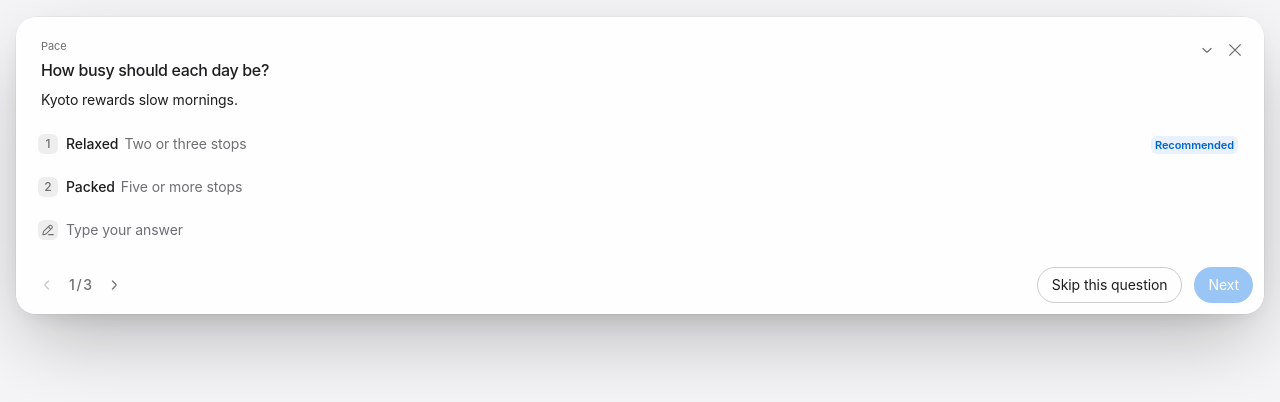
Test: QuestionComposer › returns to an unanswered question with feedback instead of submitting
This screenshot has width=1280, height=402.
Click the button named "Next question": (114, 285) [102,273,126,297]
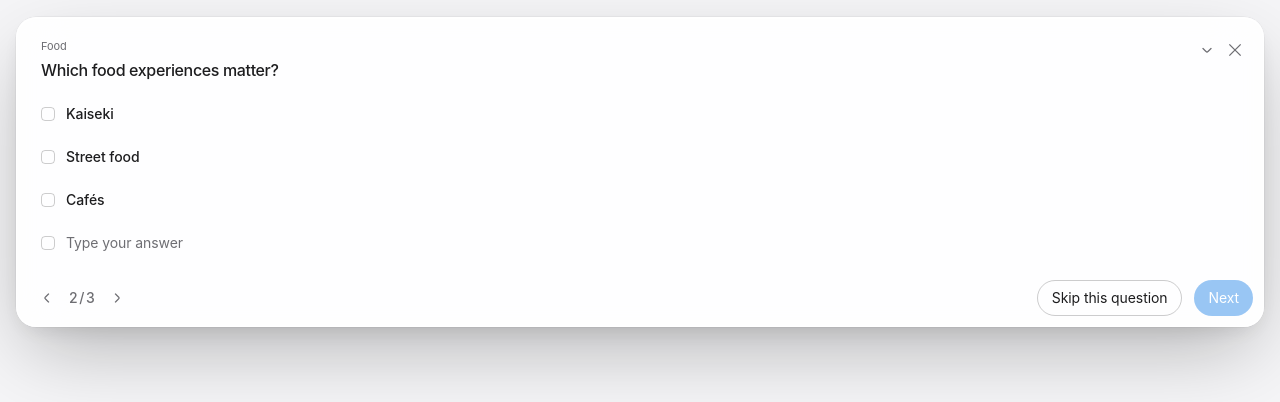
Click the button named "Next question": (117, 298) [105,286,129,310]
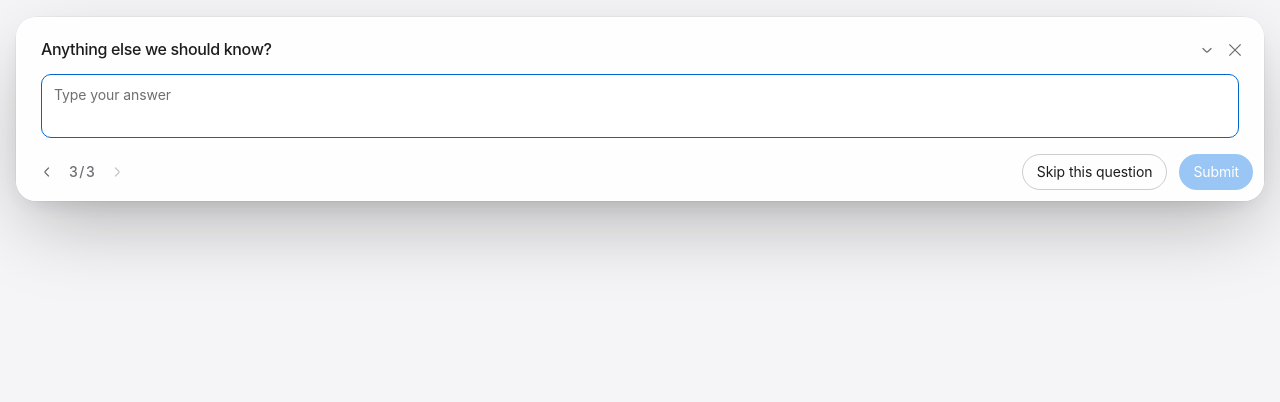
In the text box labelled "your answer": (640, 106) [42,75,1238,137], type "None"
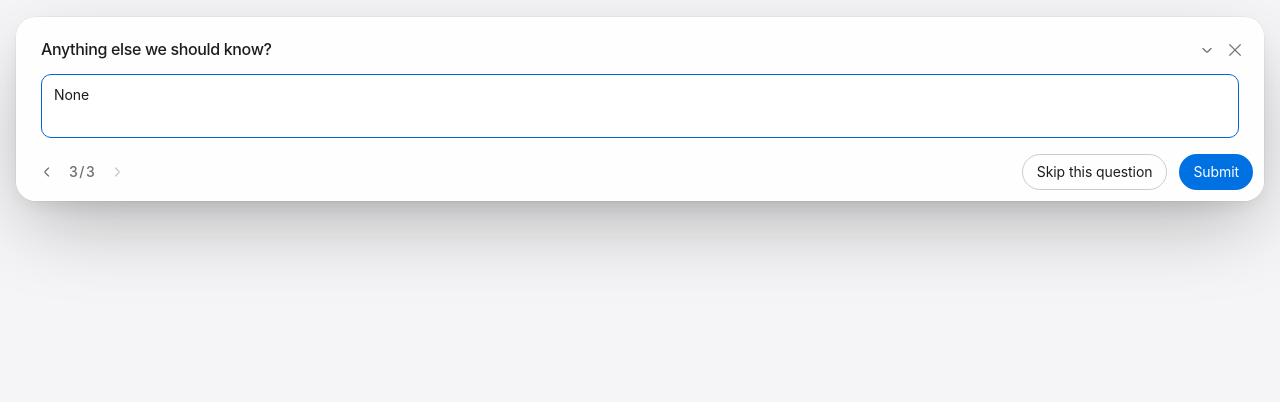
Click the button "Submit": (1216, 172) [1179,154,1253,190]
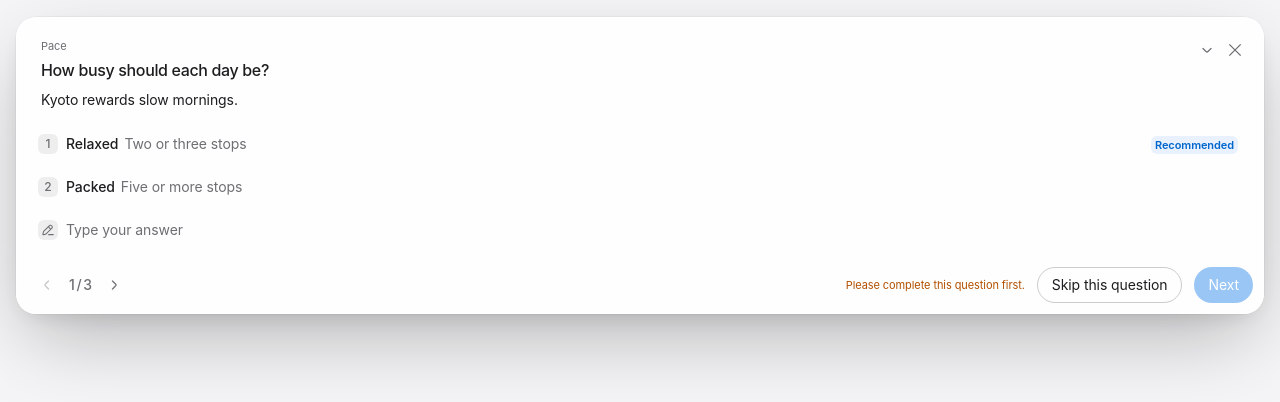
Result: the message reads "Please complete this question first." at [846,278,1025,292]
